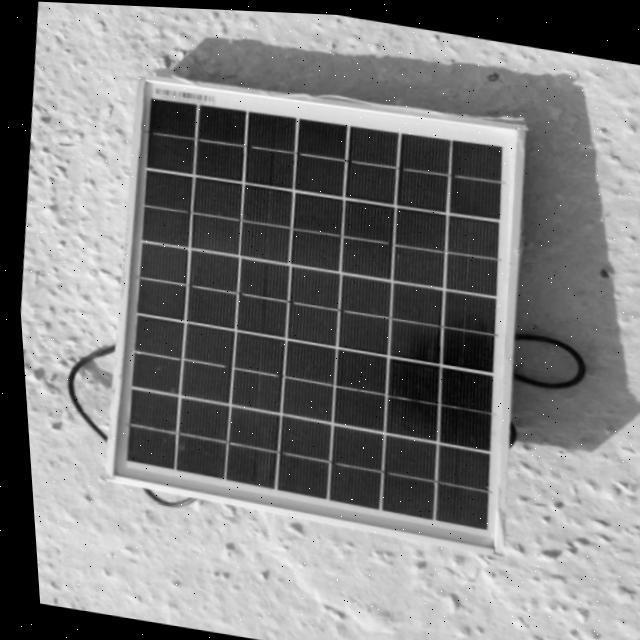Normal Solar Panel: (79, 61, 544, 552)
